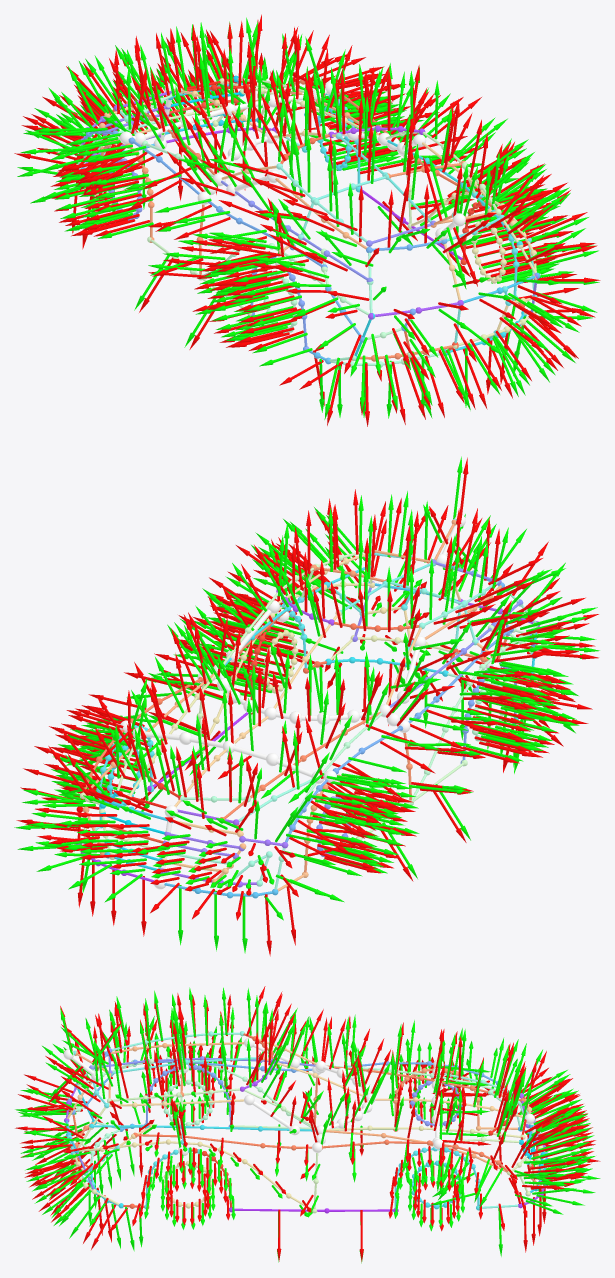
File: ils_car4.gltf
3 renders of one model, top to bottom at view 1: azimuth 30°, elevation 25°; view 2: azimuth 150°, elevation 25°; view 3: azimuth 270°, elevation 25°, orthographic. The views are drawn at different scales.
Size of the model in its own units: 0.5685 by 0.434 by 1.09.
